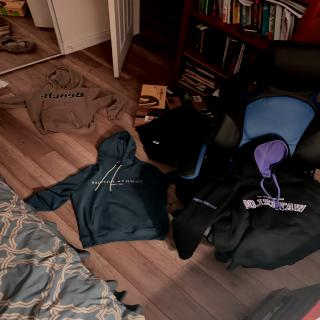Blue Hoodie: (27, 131, 178, 248)
Waterloo Hoodie: (172, 133, 320, 268)
Yellow Hoodie: (0, 66, 118, 132)
